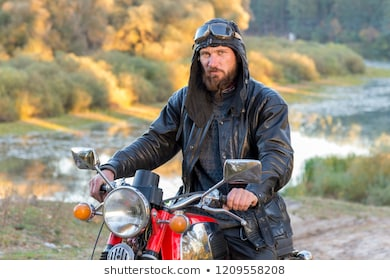with_helmet: (193, 17, 252, 76)
